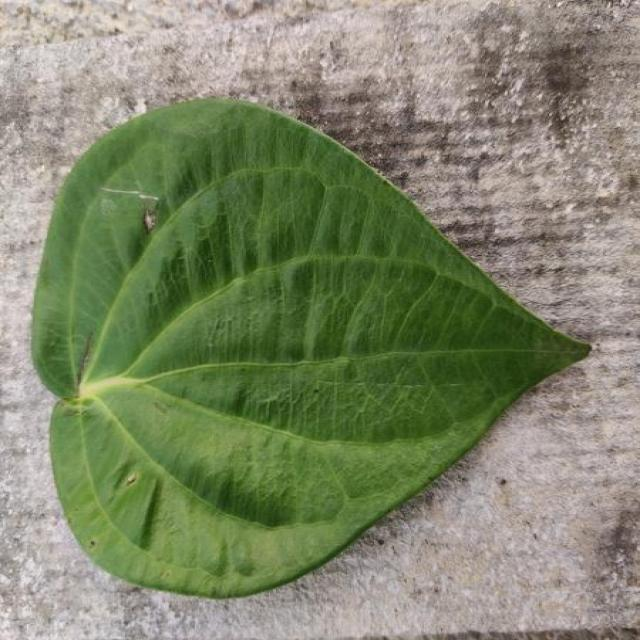betel: (32, 99, 590, 598)
